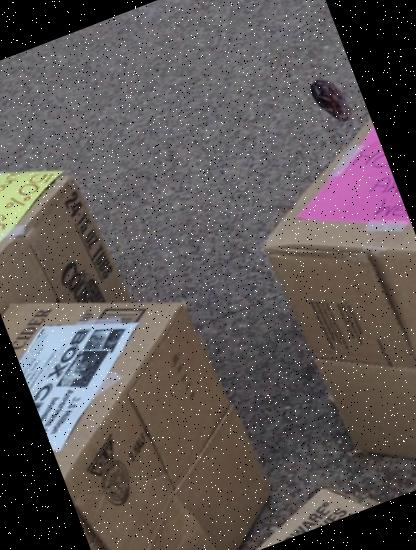Dates: (299, 68, 365, 134)
